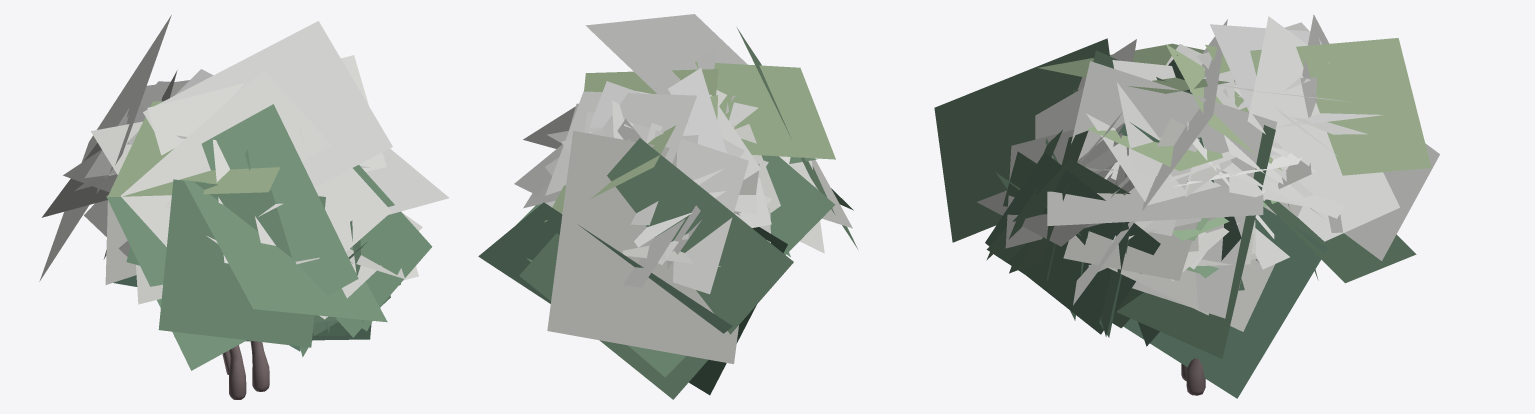
Rendered from elder_v3.glb.
The picture shows the model from 3 angles, left to right: view 1: azimuth 30°, elevation 25°; view 2: azimuth 150°, elevation 25°; view 3: azimuth 270°, elevation 25°; orthographic projection. The views are drawn at different scales.
Parts seen in each view (by area): view 1: far, near; view 2: far, near; view 3: near, far.
Part boxes in pixels (x1,y1,x2,y2): far: (39, 15, 449, 374); near: (42, 69, 432, 399); far: (478, 14, 857, 399); near: (514, 48, 853, 294); near: (985, 14, 1439, 395); far: (934, 19, 1416, 398).
Bounding box in the file's own units: 6.19 × 6.21 × 8.83.
